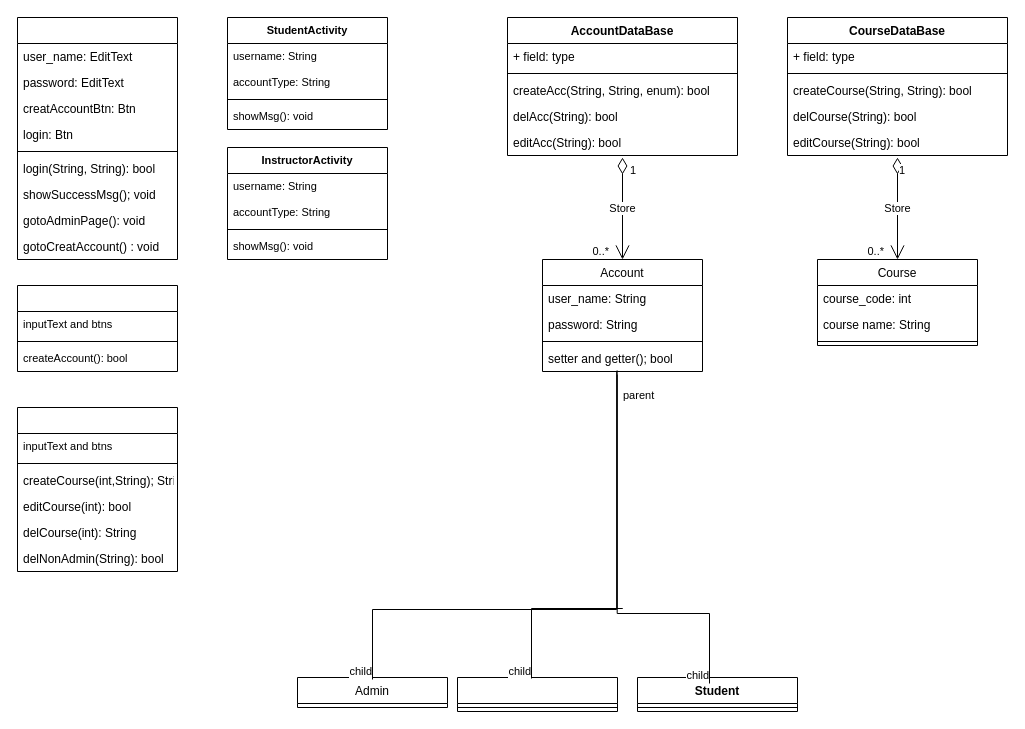
Some shapes in this 1025 by 729 pixel diagram are drawn without their labels. The box of each missing label's shape, as (x1, y1, x2, y2) in pixels:
AdminActivity: (16, 406, 178, 572)
CreateAccActivity: (16, 284, 178, 372)
Instructor: (456, 676, 618, 712)
MainActivity: (16, 16, 178, 260)
